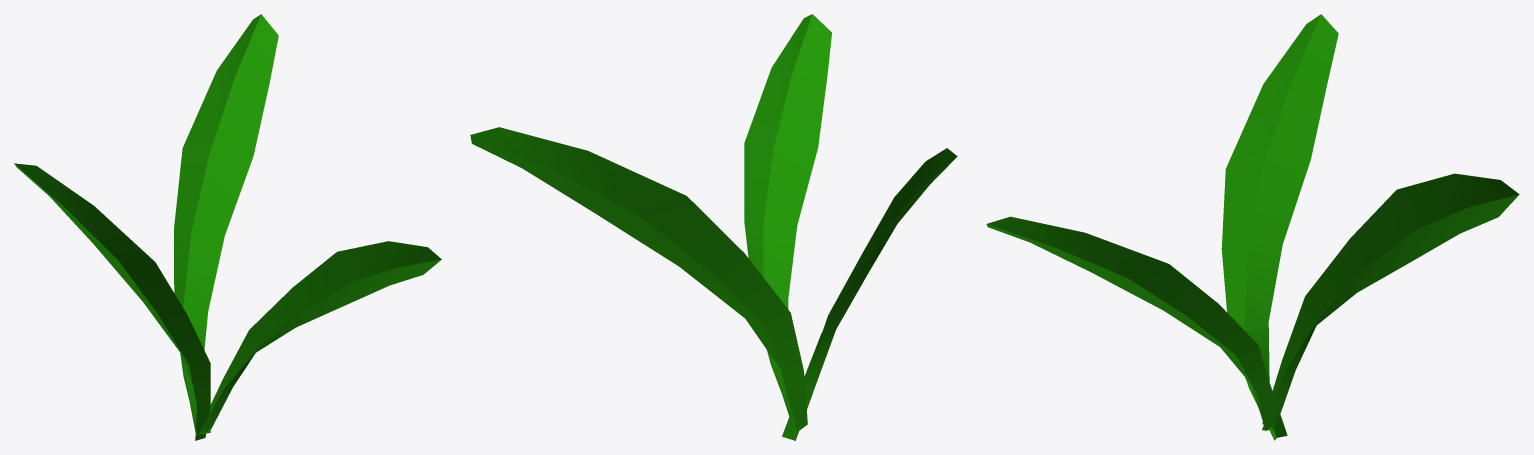
File: Tulip Stage 1.fbx
The picture shows the model from 3 angles, left to right: view 1: azimuth 30°, elevation 25°; view 2: azimuth 150°, elevation 25°; view 3: azimuth 270°, elevation 25°; orthographic projection. The views are drawn at different scales.
Visible parts, largest first — view 1: Tulip_Stage_1; view 2: Tulip_Stage_1; view 3: Tulip_Stage_1.
Part boxes in pixels (x1,y1,x2,y2): Tulip_Stage_1: (14,14,441,440); Tulip_Stage_1: (470,14,957,440); Tulip_Stage_1: (986,14,1519,440).
Bounding box in the file's own units: 0.222 × 0.1904 × 0.2677.
